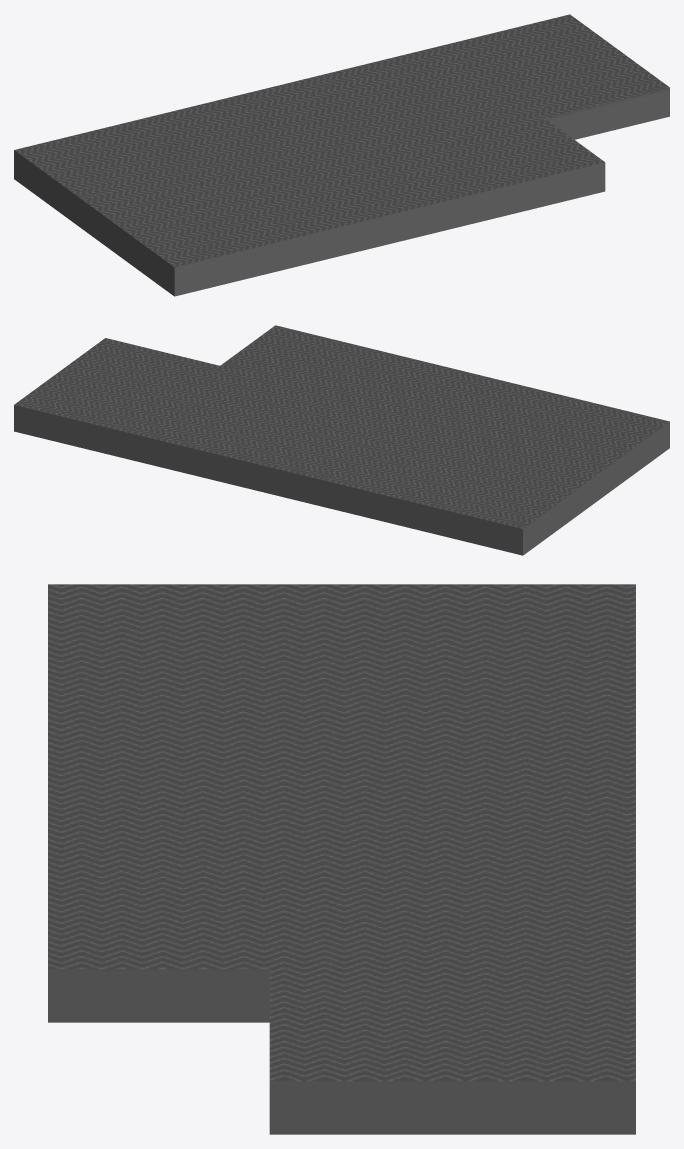
File: SM_B1_Floor1.fbx
3 renders of one model, top to bottom at view 1: azimuth 30°, elevation 25°; view 2: azimuth 150°, elevation 25°; view 3: azimuth 270°, elevation 25°, orthographic. The views are drawn at different scales.
Parts seen in each view (by area): view 1: SM_B1_Floor1; view 2: SM_B1_Floor1; view 3: SM_B1_Floor1.
Part boxes in pixels (box(x1,y1,x2,y2)): SM_B1_Floor1: box(14, 14, 669, 296); SM_B1_Floor1: box(14, 325, 669, 555); SM_B1_Floor1: box(48, 584, 635, 1134).
Bounding box in the file's own units: 800 × 400 × 40.
